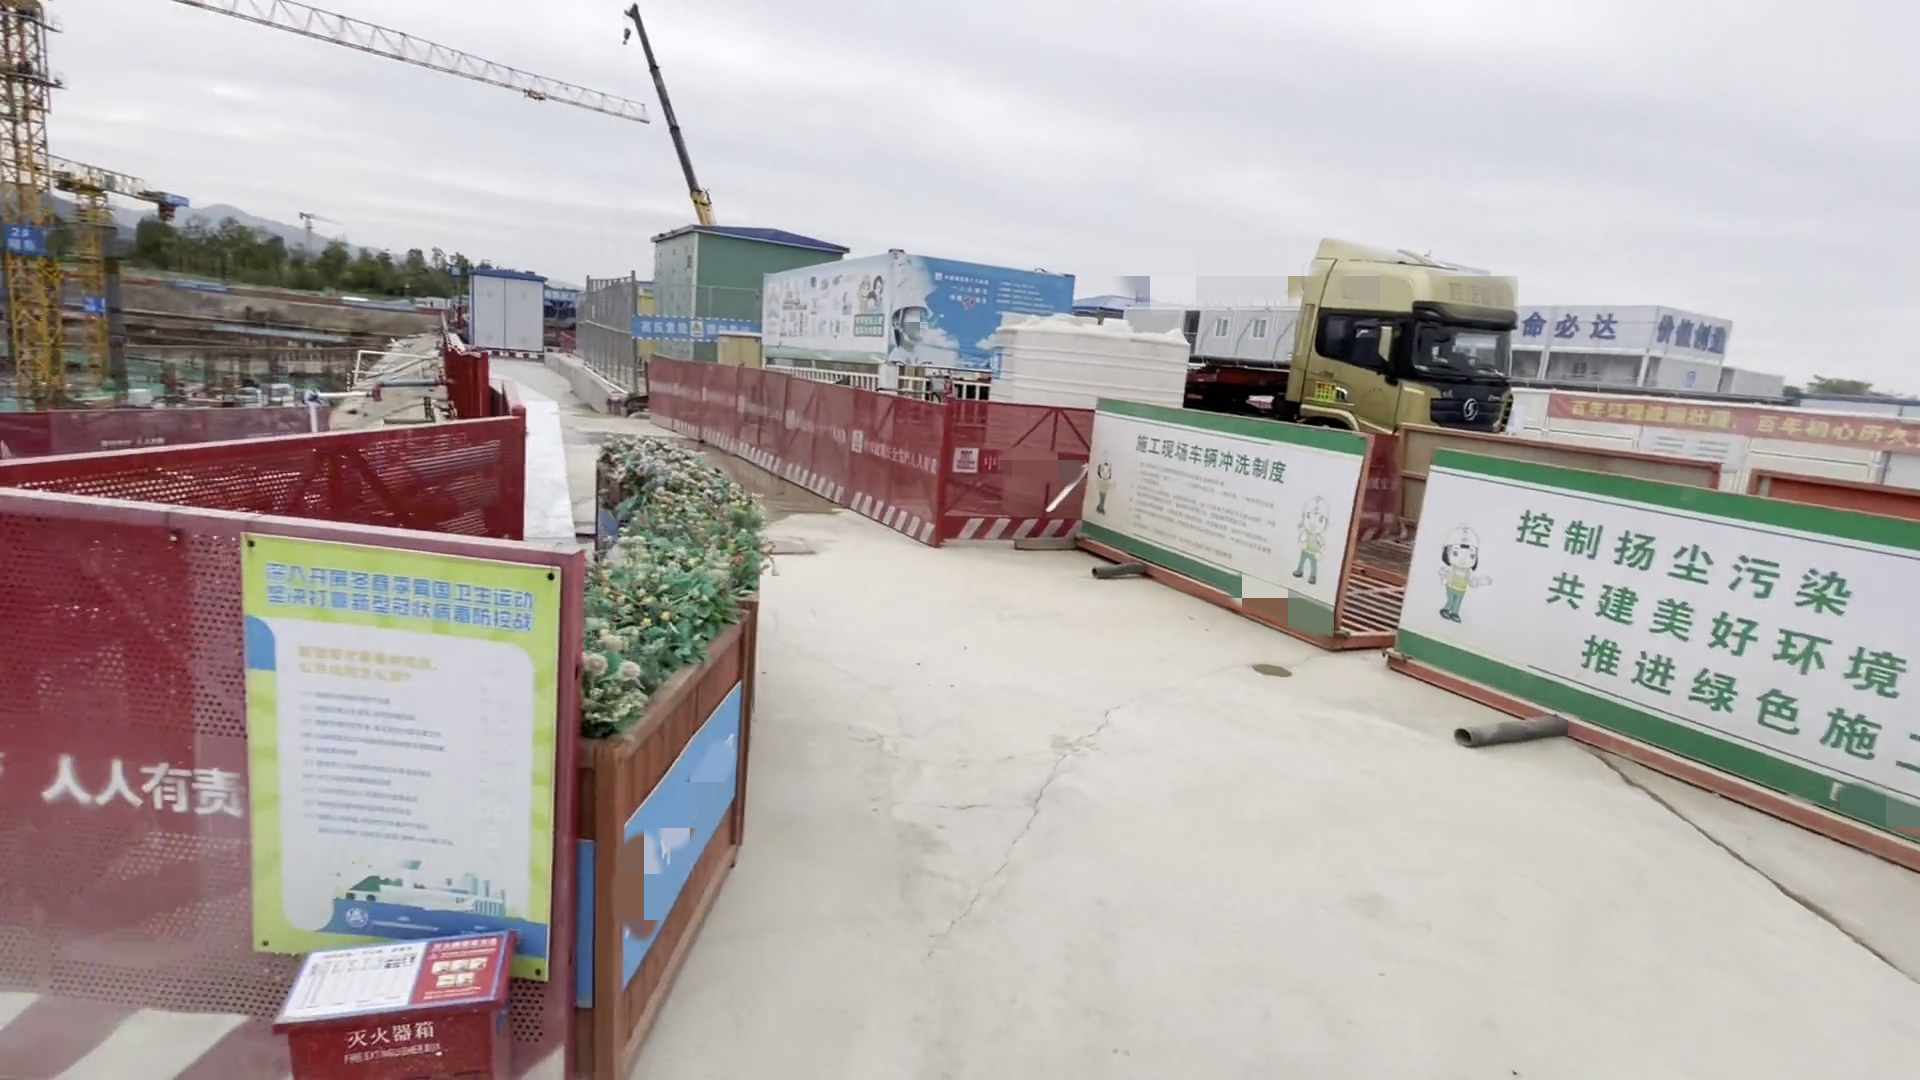ebox: (709, 326, 760, 378)
fence: (3, 512, 556, 1022), (620, 361, 975, 521)
slogan: (1486, 505, 1905, 770), (264, 556, 529, 952), (1112, 427, 1305, 568)
